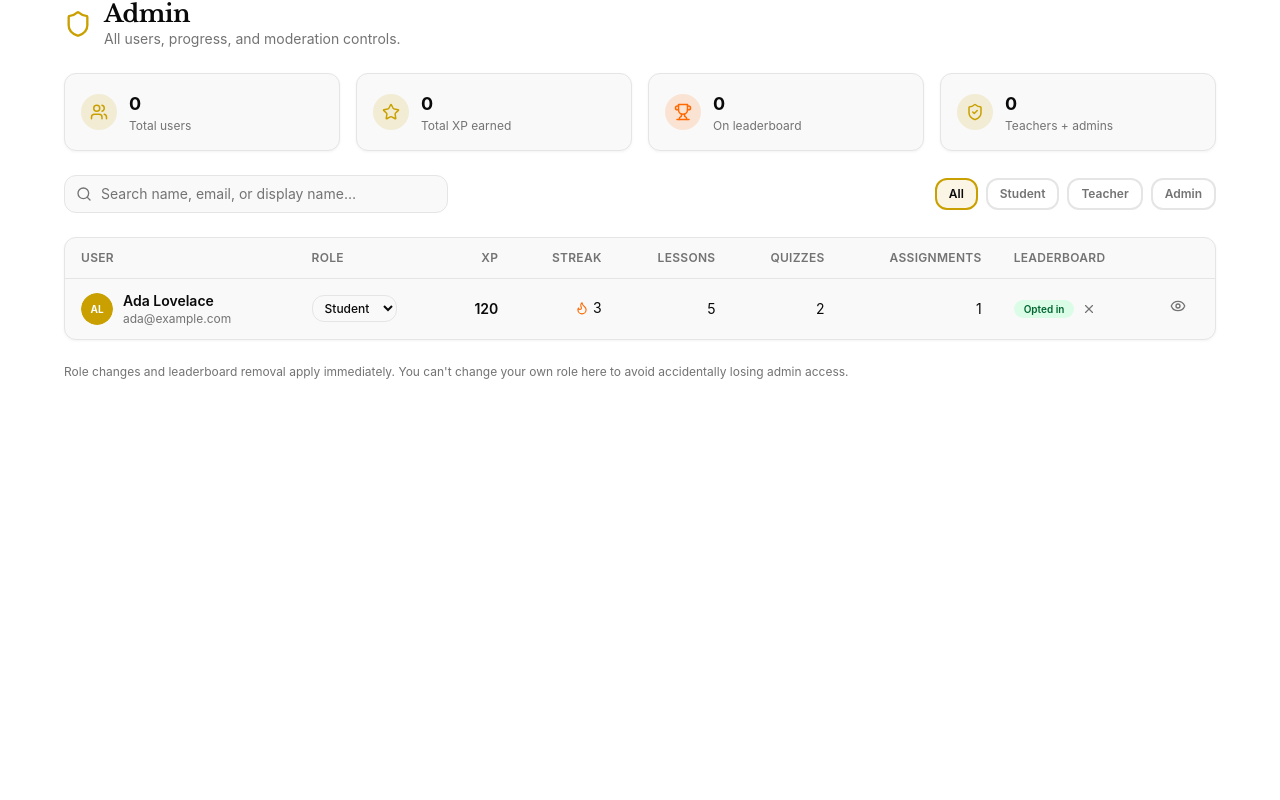
Test: AdminDashboard › opening user detail shows their stats and a reset-progress control gated by typed confirmation
Click the button titled "View details".
click(1178, 306)  # box [1170,298,1186,314]
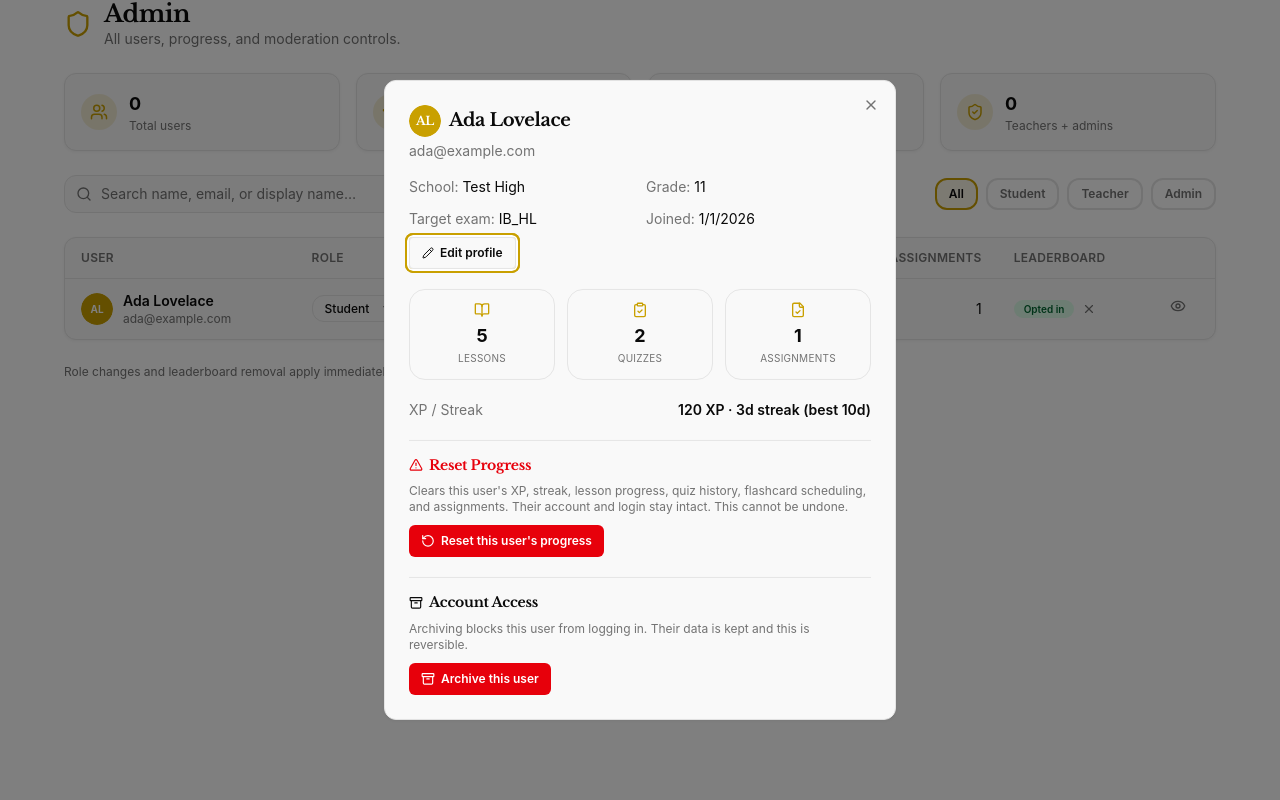
Check: the heading "AL Ada Lovelace" is shown, box [409,105,570,137]
Click the button "Reset this user's progress".
click(506, 541)  # box [409,525,604,557]
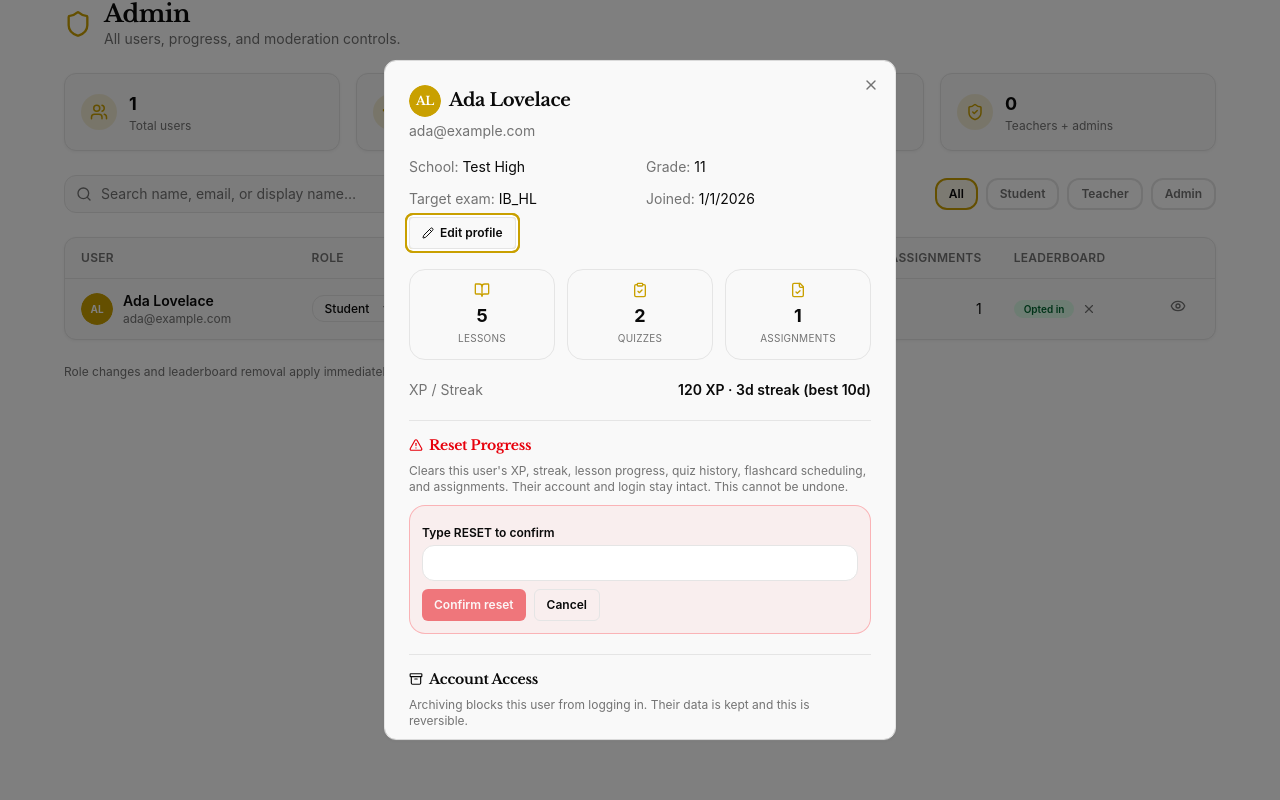
Check: the button "Confirm reset" is disabled, box [422,589,526,621]
